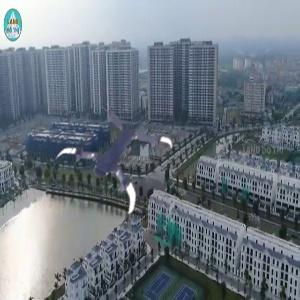drone: (57, 108, 166, 217)
